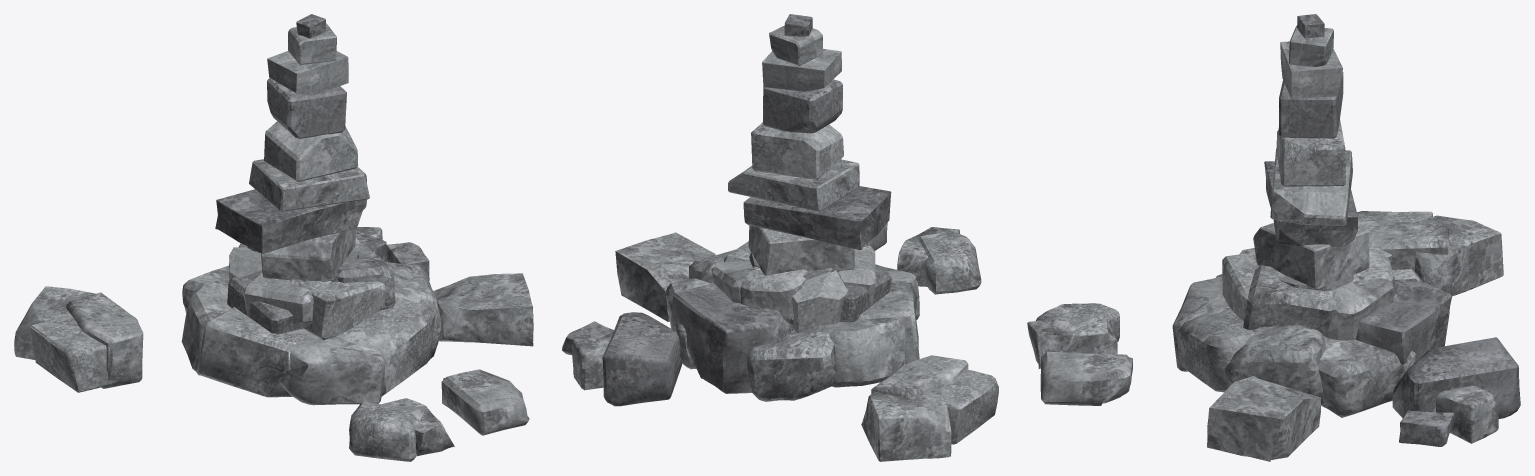
File: cima-alba.glb
3 views of the same model, side by side, from view 1: azimuth 30°, elevation 25°; view 2: azimuth 150°, elevation 25°; view 3: azimuth 270°, elevation 25° (orthographic). The views are drawn at different scales.
Visible parts, largest first — view 1: hito_granito_gris, hito_granito_oscuro, bloque8, caida4, caida5, caida6, bloque4, bloque9, bloque1, bloque3, bloque0, caida3 (+4 smaller); view 2: hito_granito_gris, hito_granito_oscuro, caida1, bloque2, bloque0, caida2, bloque8, caida3, bloque3, bloque1, bloque4, caida4 (+6 smaller); view 3: hito_granito_gris, bloque8, bloque2, hito_granito_oscuro, caida0, caida1, caida7, bloque0, bloque9, caida6, bloque4, bloque7 (+5 smaller).
Boxes of the visible parts, <box> form: hito_granito_gris: <box>229,23,395,340</box>; hito_granito_oscuro: <box>215,14,367,334</box>; bloque8: <box>433,273,533,346</box>; caida4: <box>196,307,307,397</box>; caida5: <box>280,328,385,405</box>; caida6: <box>335,298,435,396</box>; bloque4: <box>66,292,143,388</box>; bloque9: <box>441,369,529,435</box>; bloque1: <box>30,322,118,392</box>; bloque3: <box>349,402,424,461</box>; bloque0: <box>14,286,95,359</box>; caida3: <box>181,285,231,375</box>; hito_granito_gris: <box>711,25,875,332</box>; hito_granito_oscuro: <box>743,14,891,322</box>; caida1: <box>672,282,793,393</box>; bloque2: <box>602,312,682,406</box>; bloque0: <box>861,388,951,461</box>; caida2: <box>746,324,836,401</box>; bloque8: <box>615,232,715,321</box>; caida3: <box>815,318,906,387</box>; bloque3: <box>918,232,981,294</box>; bloque1: <box>940,369,998,444</box>; bloque4: <box>871,355,968,399</box>; caida4: <box>858,281,919,363</box>; hito_granito_gris: <box>1222,26,1394,340</box>; bloque8: <box>1207,376,1321,461</box>; bloque2: <box>1392,337,1520,418</box>; hito_granito_oscuro: <box>1260,14,1357,291</box>; caida0: <box>1318,336,1415,417</box>; caida1: <box>1356,279,1451,364</box>; caida7: <box>1224,325,1326,404</box>; bloque0: <box>1414,215,1503,296</box>; bloque9: <box>1040,351,1132,405</box>; caida6: <box>1177,304,1255,392</box>; bloque4: <box>1358,220,1450,271</box>; bloque7: <box>1435,386,1498,443</box>.
Bounding box in the file's own units: 4.01 × 3.12 × 3.93.
2 materials, 2 textured.
